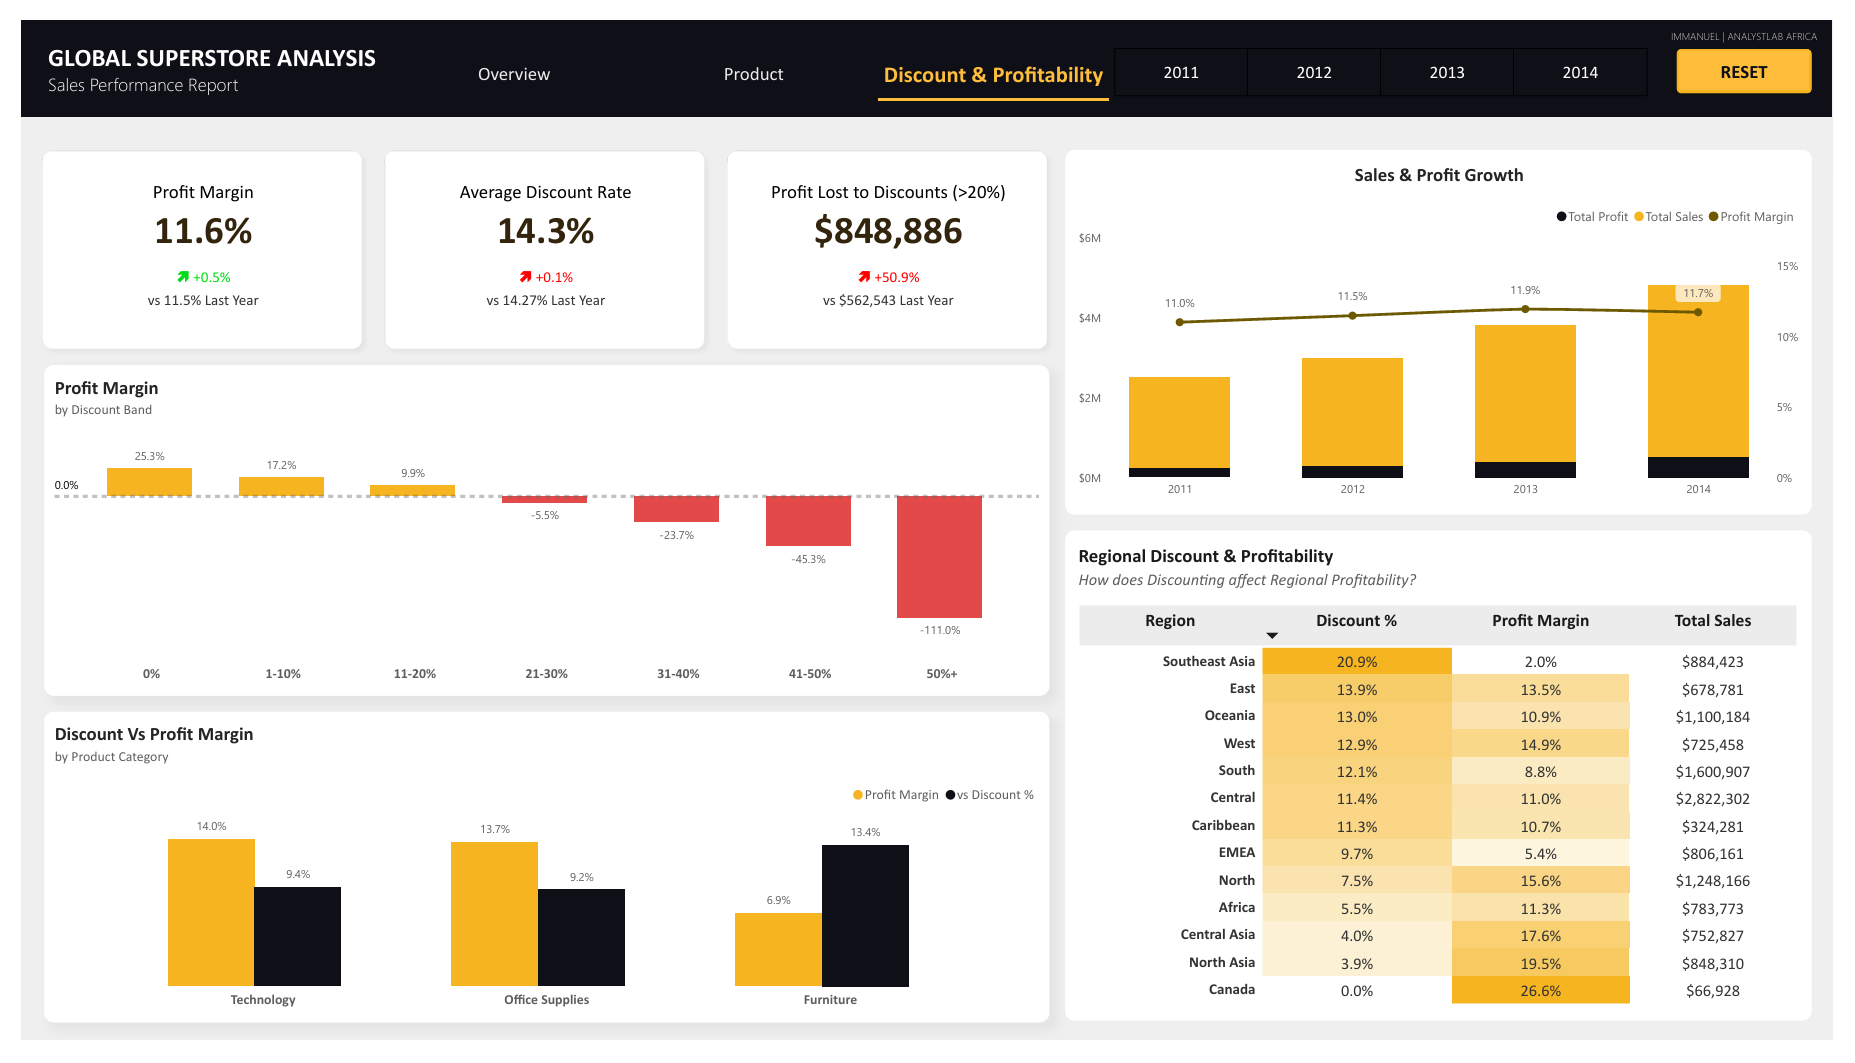

The dashboard page shown, as its layout file describes it:
{"tool":"powerbi","page":{"name":"Discount & Profitability","canvas":[1920,1080],"ordinal":2},"visuals":[{"type":"shape","box":[0,0,1919.3,102.2],"z":0},{"type":"advancedSlicerVisual","fields":{"Values":["Calender.Year"]},"box":[1153.5,24.3,576.9,60.5],"z":1000},{"type":"textbox","box":[22.7,18.2,372.2,67.5],"z":2000},{"type":"actionButton","box":[1754.2,29.8,143,47.7],"z":3000},{"type":"pageNavigator","box":[400.3,18.9,753.2,66.3],"z":4000},{"type":"textbox","box":[1743.3,2.2,176.1,30.8],"z":5000},{"type":"cardVisual","fields":{"Data":["_Measures.Profit Margin","_Measures.Average Discount","_Measures.Profit Lost to Discounts >20%"]},"box":[4.7,120.8,1101.3,244],"z":6000},{"type":"clusteredColumnChart","fields":{"Category":["Sales Fact.Discount Band"],"Y":["_Measures.Profit Margin"]},"box":[23.7,364.7,1065.8,350.5],"z":7000},{"type":"clusteredColumnChart","title":"Discount Vs Profit Margin ","fields":{"Category":["Product Dim.Category"],"Y":["_Measures.Profit Margin","_Measures.Weighted Avg Discount %"]},"box":[23.7,731.9,1065.8,329.2],"z":8000},{"type":"pivotTable","title":"Regional Discount & Profitability","fields":{"Rows":["Location Dim.Region"],"Values":["_Measures.Weighted Avg Discount %","_Measures.Profit Margin","_Measures.Total Sales"]},"box":[1106.1,540,791.1,518.7],"z":9000},{"type":"lineStackedColumnComboChart","title":"Sales & Profit Growth","fields":{"Category":["Calendar.Year"],"Y":["_Measures.Total Profit","_Measures.Total Sales"],"Y2":["_Measures.Profit Margin"]},"box":[1106.1,137.4,791.1,386.1],"z":10000}]}

Visuals, with their boxes in screenshot pixels (x1, y1, x2, y2), scaled from the page's 1920x1080 canvas onto the 1855x1063 screenshot:
shape: Rect(0, 0, 1854, 101)
advancedSlicerVisual - Calender.Year: Rect(1114, 24, 1672, 83)
textbox: Rect(22, 18, 382, 84)
actionButton: Rect(1695, 29, 1833, 76)
pageNavigator: Rect(387, 19, 1114, 84)
textbox: Rect(1684, 2, 1854, 32)
cardVisual - _Measures.Profit Margin x _Measures.Average Discount: Rect(5, 119, 1069, 359)
clusteredColumnChart - Sales Fact.Discount Band x _Measures.Profit Margin: Rect(23, 359, 1053, 704)
"Discount Vs Profit Margin " clusteredColumnChart: Rect(23, 720, 1053, 1044)
"Regional Discount & Profitability" pivotTable: Rect(1069, 532, 1833, 1042)
"Sales & Profit Growth" lineStackedColumnComboChart: Rect(1069, 135, 1833, 515)
